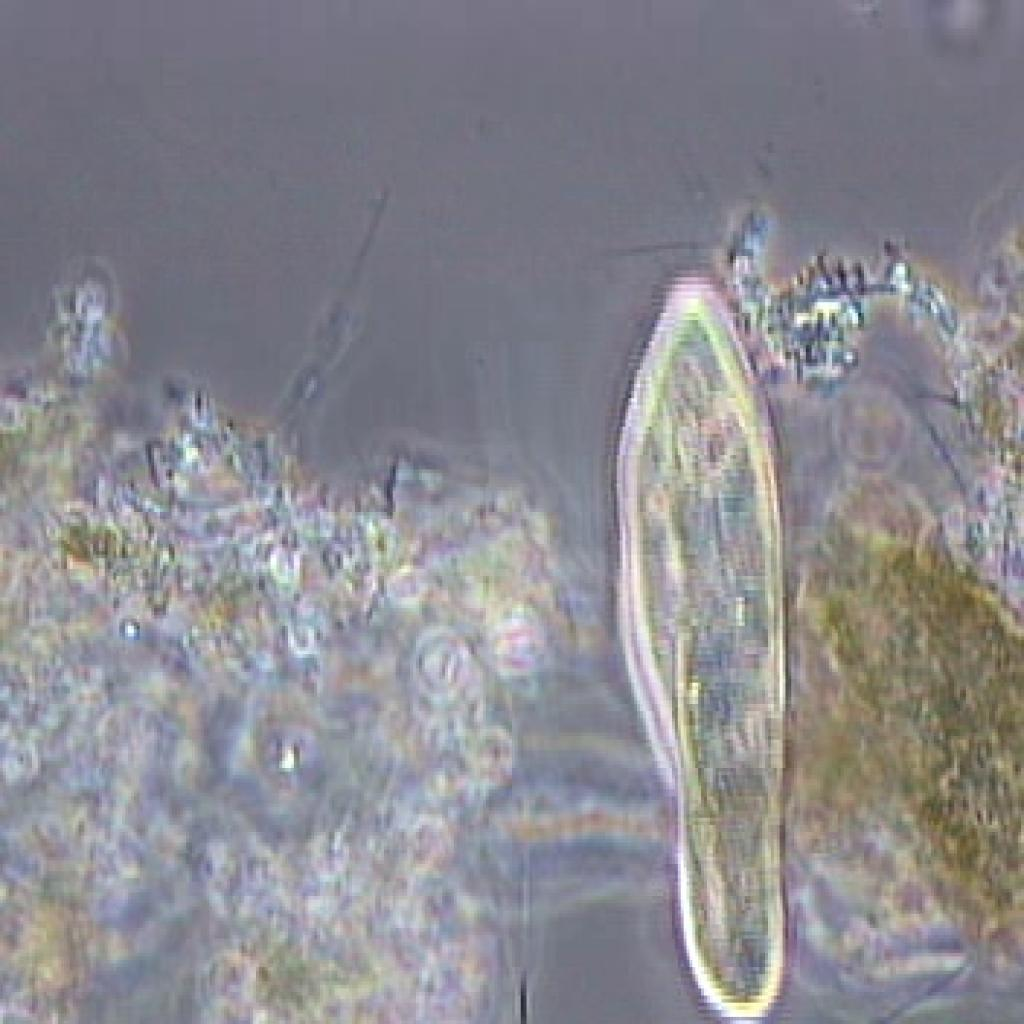Paramecium: (588, 249, 812, 1024)
